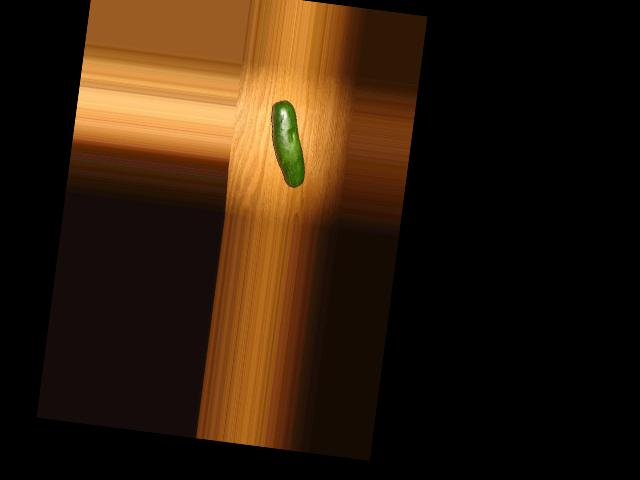cucumber: (262, 100, 313, 189)
